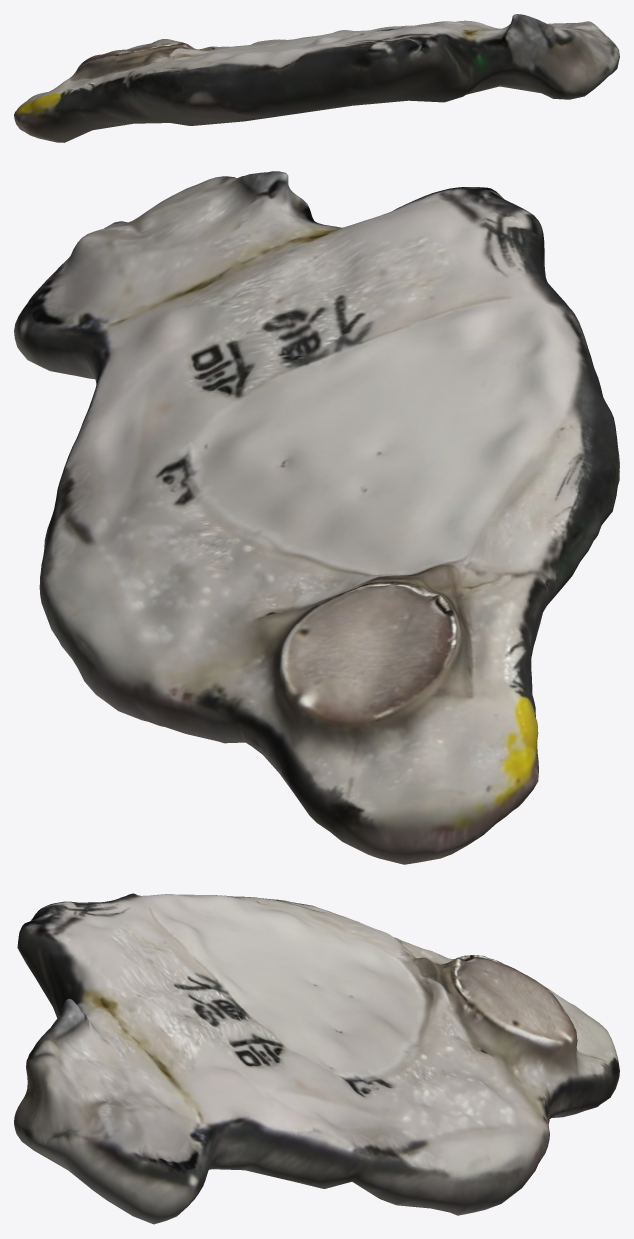
3 renders of one model, top to bottom at view 1: azimuth 30°, elevation 25°; view 2: azimuth 150°, elevation 25°; view 3: azimuth 270°, elevation 25°, orthographic. The views are drawn at different scales.
Bounding box in the file's own units: 0.4934 × 0.2218 × 0.4342.
1 material, 1 textured.
